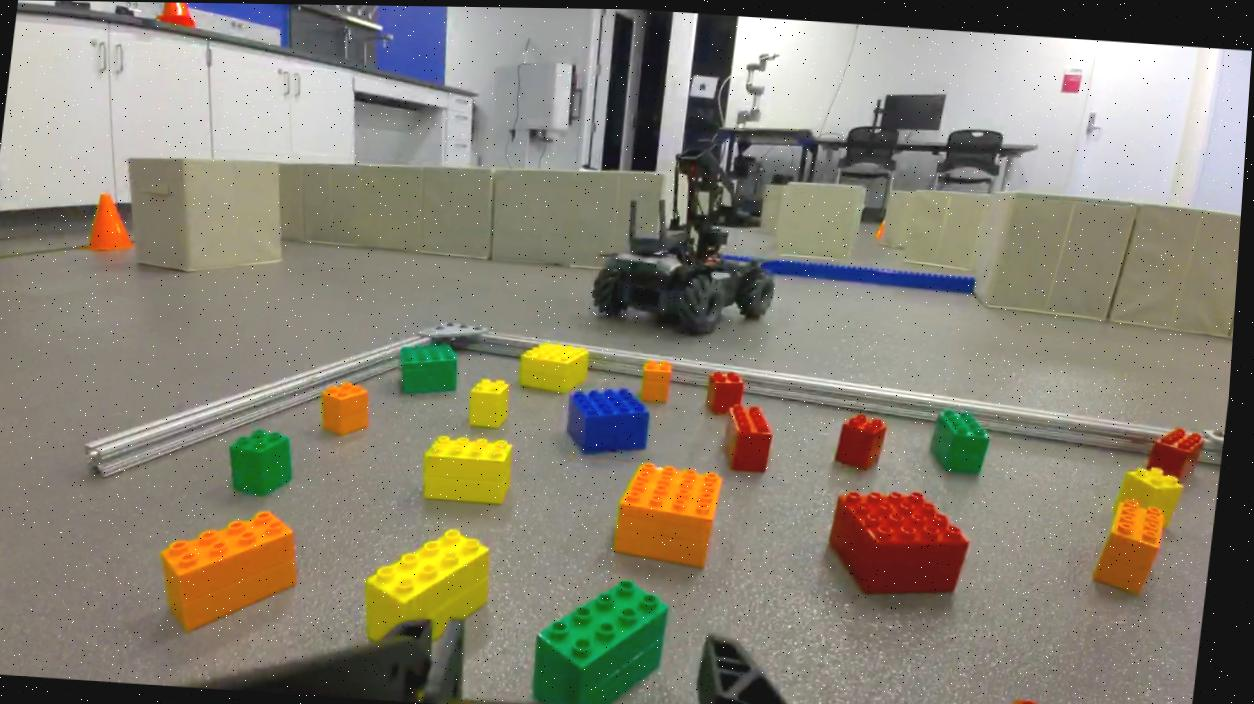2x2lego: (226, 422, 309, 500), (724, 398, 785, 467), (321, 374, 382, 439), (835, 406, 897, 469), (1118, 459, 1196, 502), (468, 374, 521, 430), (708, 365, 749, 414), (641, 356, 680, 402)
2x4lego: (158, 500, 313, 637), (533, 568, 685, 704), (365, 521, 504, 648), (1094, 495, 1176, 592), (424, 427, 523, 505), (930, 402, 1000, 475), (1148, 422, 1215, 472)
4x4lego: (826, 482, 982, 601), (616, 460, 732, 573), (566, 380, 661, 458), (398, 336, 469, 401), (518, 337, 597, 394)
